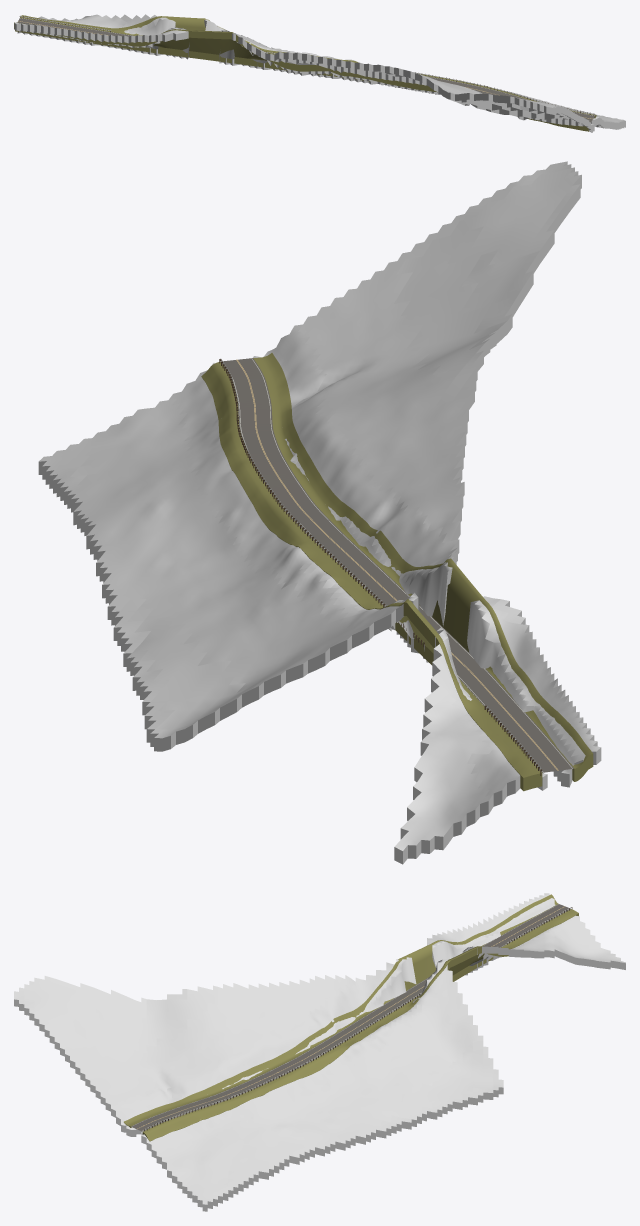
The model's file is conz_86.glb.
The picture shows the model from 3 angles, top to bottom: view 1: azimuth 30°, elevation 25°; view 2: azimuth 150°, elevation 25°; view 3: azimuth 270°, elevation 25°; orthographic projection. The views are drawn at different scales.
Visible parts, largest first — view 1: terrain86, verge86R, verge86L, road86, beam86_90318; view 2: terrain86, road86, verge86L, verge86R, posts86_90318; view 3: terrain86, verge86L, road86, verge86R.
Boxes of the visible parts, x1=… form: terrain86: x1=14, y1=14, x2=625, y2=132; verge86R: x1=14, y1=22, x2=589, y2=131; verge86L: x1=20, y1=15, x2=596, y2=118; road86: x1=17, y1=18, x2=594, y2=122; beam86_90318: x1=266, y1=52, x2=595, y2=114; terrain86: x1=38, y1=161, x2=601, y2=864; road86: x1=220, y1=358, x2=573, y2=772; verge86L: x1=201, y1=362, x2=542, y2=791; verge86R: x1=253, y1=353, x2=593, y2=781; posts86_90318: x1=219, y1=359, x2=424, y2=647; terrain86: x1=14, y1=893, x2=625, y2=1211; verge86L: x1=142, y1=909, x2=578, y2=1141; road86: x1=131, y1=904, x2=571, y2=1131; verge86R: x1=124, y1=894, x2=558, y2=1127.
Size of the model in its own units: 208 by 60.29 by 240.
